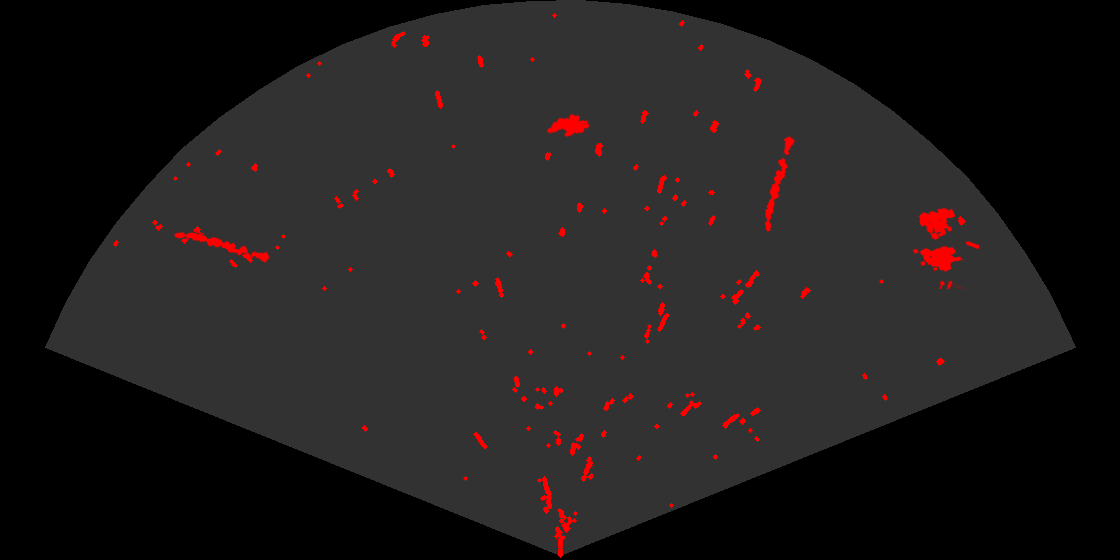AUV: (545, 112, 591, 138)
cage: (911, 206, 979, 289)
chain: (763, 134, 796, 233), (173, 231, 272, 264)
